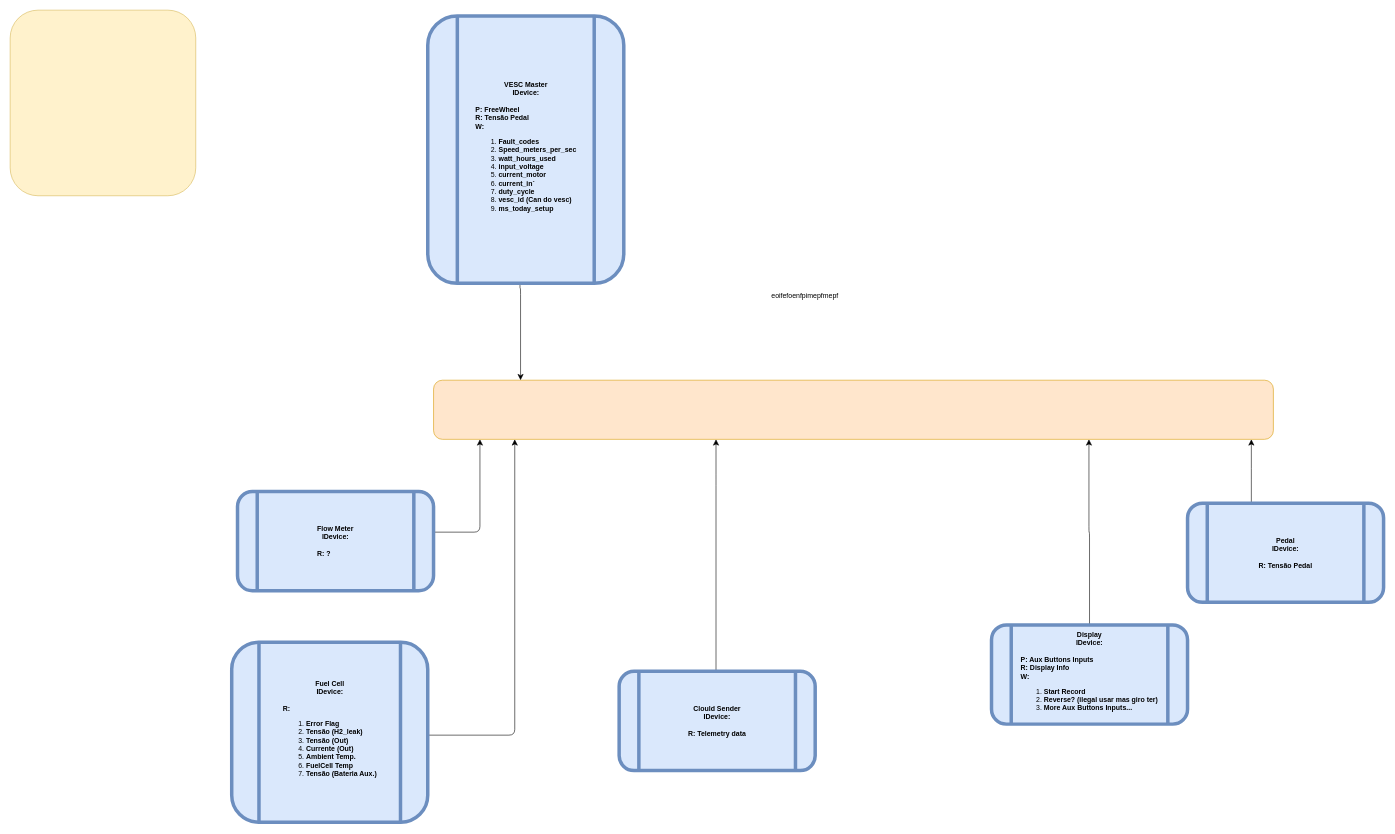
The diagram is 1395 pixels wide and 834 high, and some of its shapes have lost their labels. Each missing label, with the centre of its shape:
"Can Line" goes at (853,409).
"LEGENDA : R- Reads W- Writes P- Performs" goes at (103,103).
